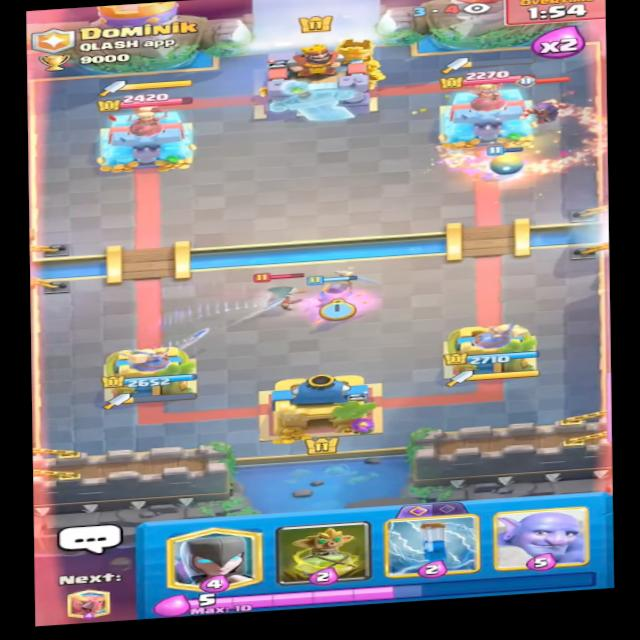Bandit: (253, 270, 309, 313)
Evowizard: (512, 69, 577, 128)
